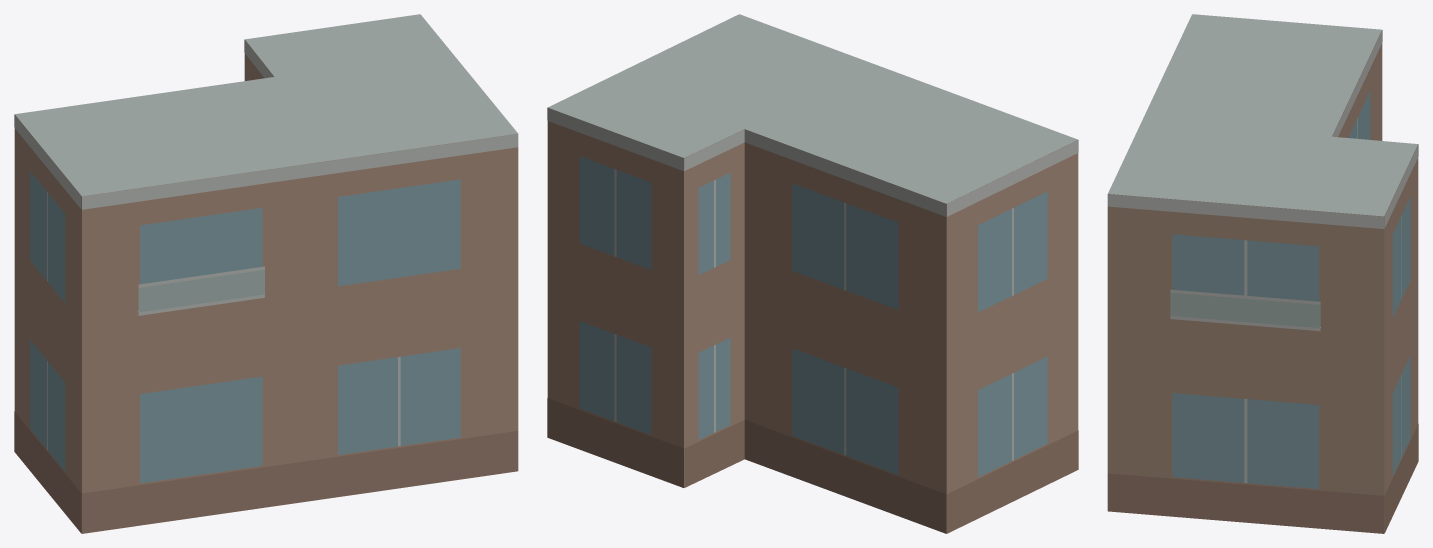
File: survey-upis-32499041.glb
3 renders of one model, left to right at view 1: azimuth 30°, elevation 25°; view 2: azimuth 150°, elevation 25°; view 3: azimuth 270°, elevation 25°, orthographic. The views are drawn at different scales.
Parts seen in each view (by area): view 1: survey-upis-32499041.tmp; view 2: survey-upis-32499041.tmp; view 3: survey-upis-32499041.tmp.
Boxes of the visible parts, left/top/right/bottom form: survey-upis-32499041.tmp: left=14, top=14, right=518, bottom=533; survey-upis-32499041.tmp: left=547, top=14, right=1078, bottom=533; survey-upis-32499041.tmp: left=1107, top=14, right=1418, bottom=533.
Bounding box in the file's own units: 8.35 × 6.1 × 5.42.
